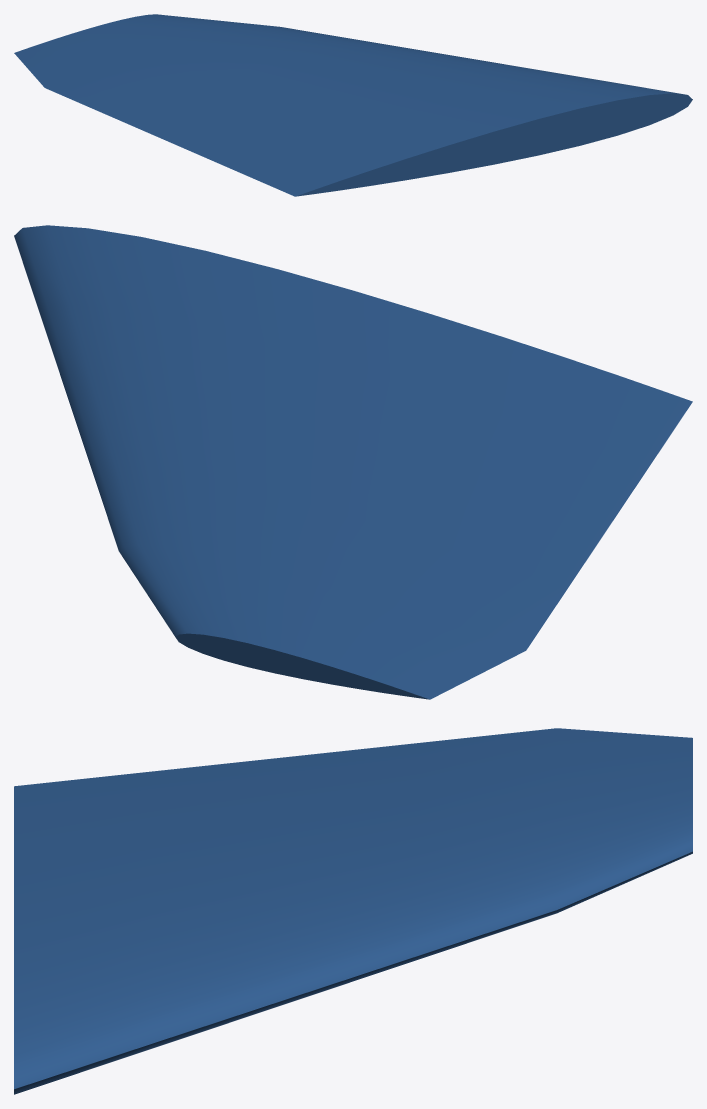
The model's file is left_wingtip_fin.obj.
3 renders of one model, top to bottom at view 1: azimuth 30°, elevation 25°; view 2: azimuth 150°, elevation 25°; view 3: azimuth 270°, elevation 25°, orthographic. The views are drawn at different scales.
Visible parts, largest first — view 1: left_wingtip_fin; view 2: left_wingtip_fin; view 3: left_wingtip_fin.
Boxes of the visible parts, x1=… form: left_wingtip_fin: x1=14, y1=14, x2=692, y2=196; left_wingtip_fin: x1=14, y1=225, x2=692, y2=699; left_wingtip_fin: x1=14, y1=728, x2=692, y2=1094.
Size of the model in its own units: 0.1787 by 0.0135 by 0.142.
